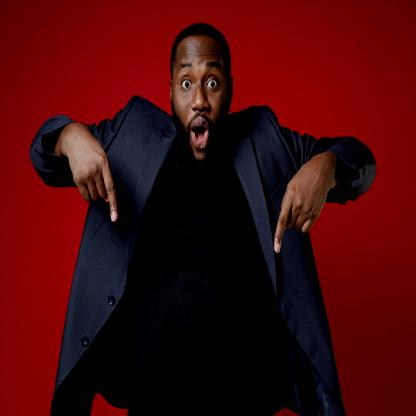Down: (61, 124, 133, 218)
